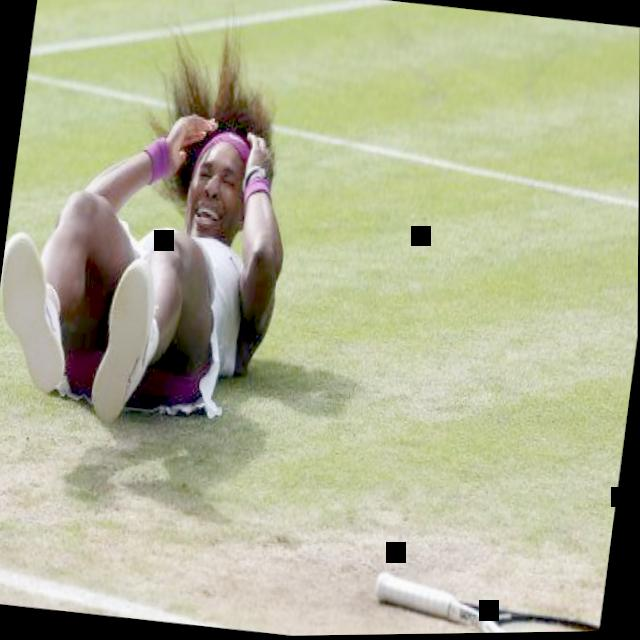Fall-Detected: (0, 0, 333, 448)
